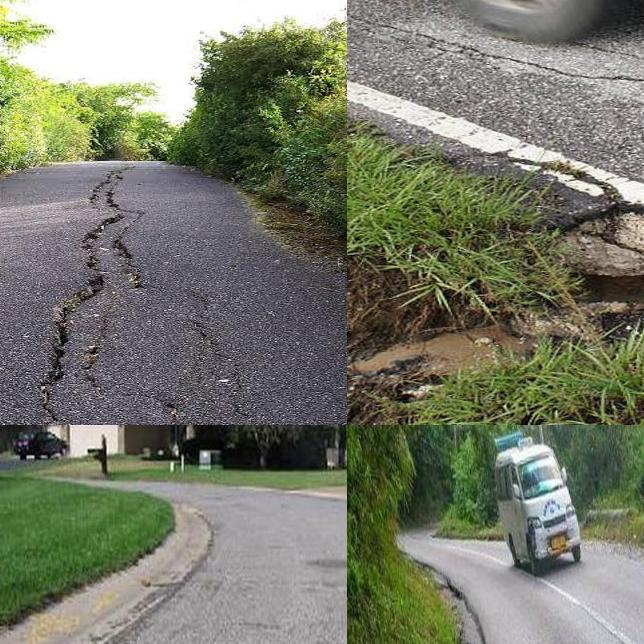Memanjang: (32, 162, 150, 403)
Pinggir: (426, 153, 644, 380)
